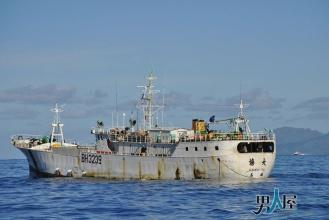otherboat: (9, 73, 282, 181)
